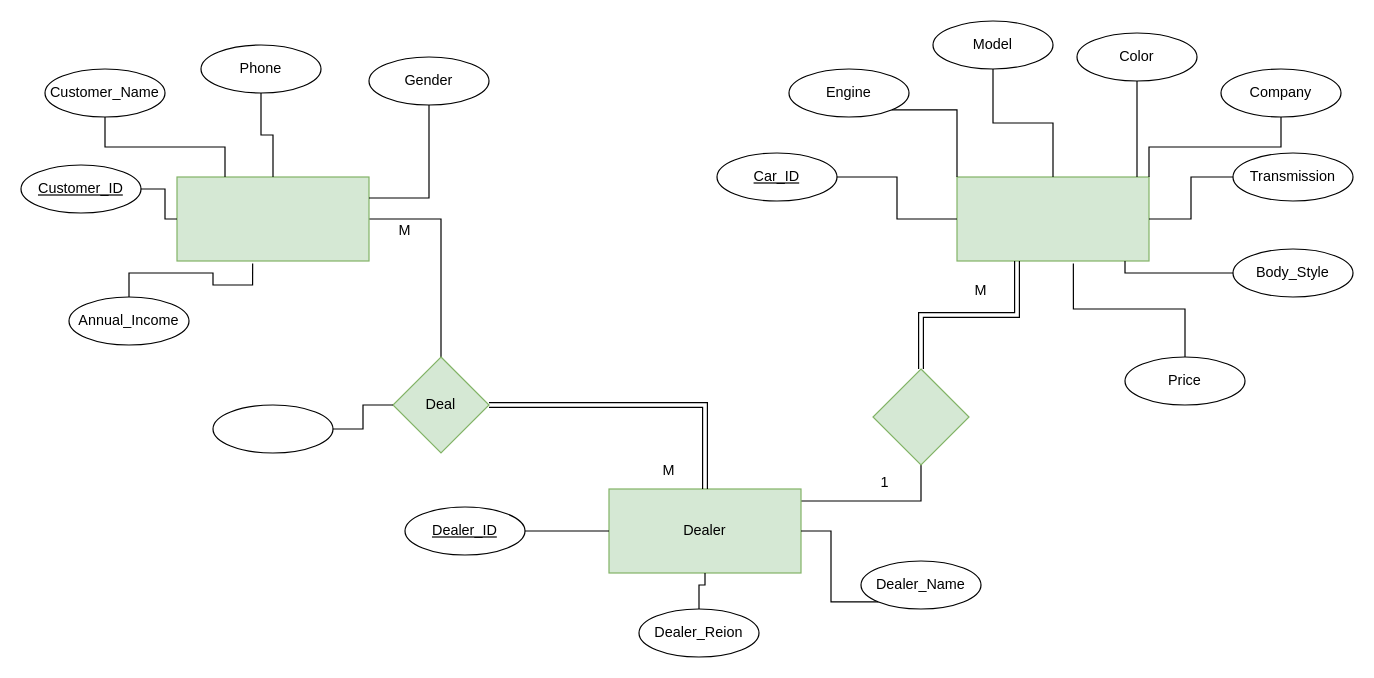
The diagram is 1374 pixels wide and 678 high, and some of its shapes have lost their labels. The centre of each missing label's shape, as x and y in pixels:
Car: point 1052,218
Customer: point 272,218
Date: point 272,428
Sell: point 920,416
